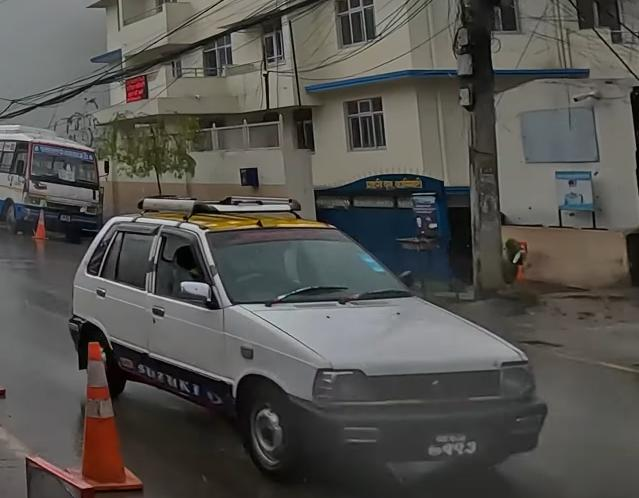bus: (0, 123, 106, 243)
taxi: (59, 188, 551, 481)
